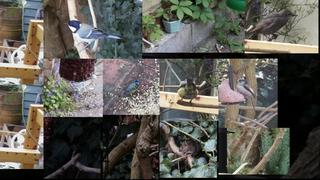blue tit: (177, 79, 198, 106), (123, 79, 140, 94)
great tit: (64, 20, 122, 53)
long tailed tit: (236, 79, 258, 120)
mouse: (179, 141, 197, 158)
starling: (248, 8, 298, 42)
